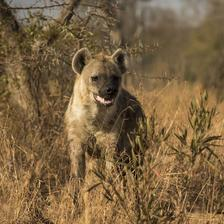hyena: (67, 46, 152, 192)
